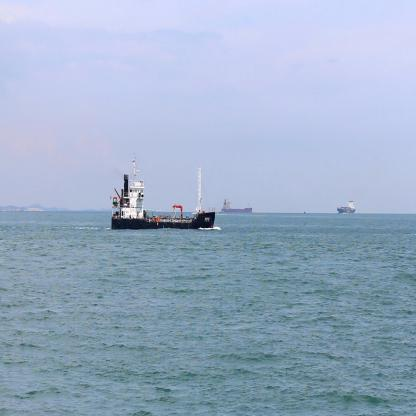Container Ship: (108, 150, 216, 231), (219, 195, 252, 215), (336, 196, 357, 214)
